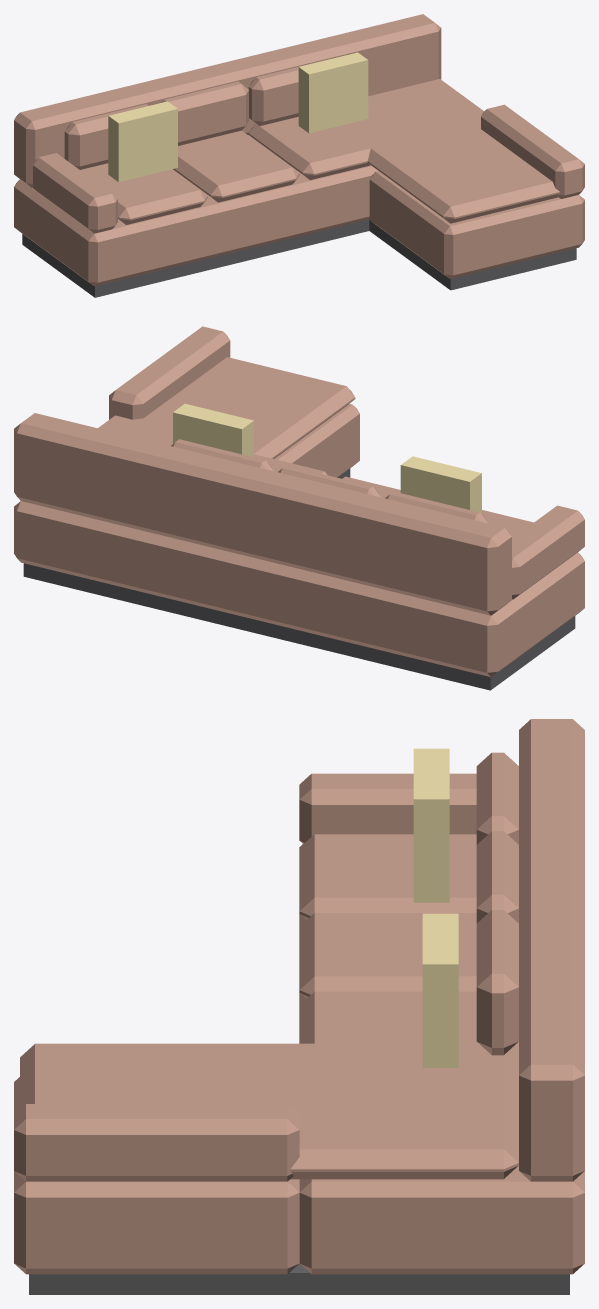
Rendered from sofa_b.glb.
3 views of the same model, one above another, from view 1: azimuth 30°, elevation 25°; view 2: azimuth 150°, elevation 25°; view 3: azimuth 270°, elevation 25° (orthographic). The views are drawn at different scales.
Parts seen in each view (by area): view 1: sofa_b_fabric3, sofa_b_cloth_y, sofa_b_dark; view 2: sofa_b_fabric3, sofa_b_dark, sofa_b_cloth_y; view 3: sofa_b_fabric3, sofa_b_dark, sofa_b_cloth_y.
Boxes of the visible parts, x1,y1,x2,y2 form: sofa_b_fabric3: (14, 14, 584, 286); sofa_b_cloth_y: (108, 52, 368, 182); sofa_b_dark: (22, 219, 576, 297); sofa_b_fabric3: (14, 326, 584, 676); sofa_b_dark: (23, 468, 575, 690); sofa_b_cloth_y: (173, 403, 481, 513); sofa_b_fabric3: (14, 719, 584, 1274); sofa_b_dark: (29, 1263, 569, 1294); sofa_b_cloth_y: (413, 748, 458, 1067).
Bounding box in the file's own units: 2.8 × 0.91 × 1.9.
